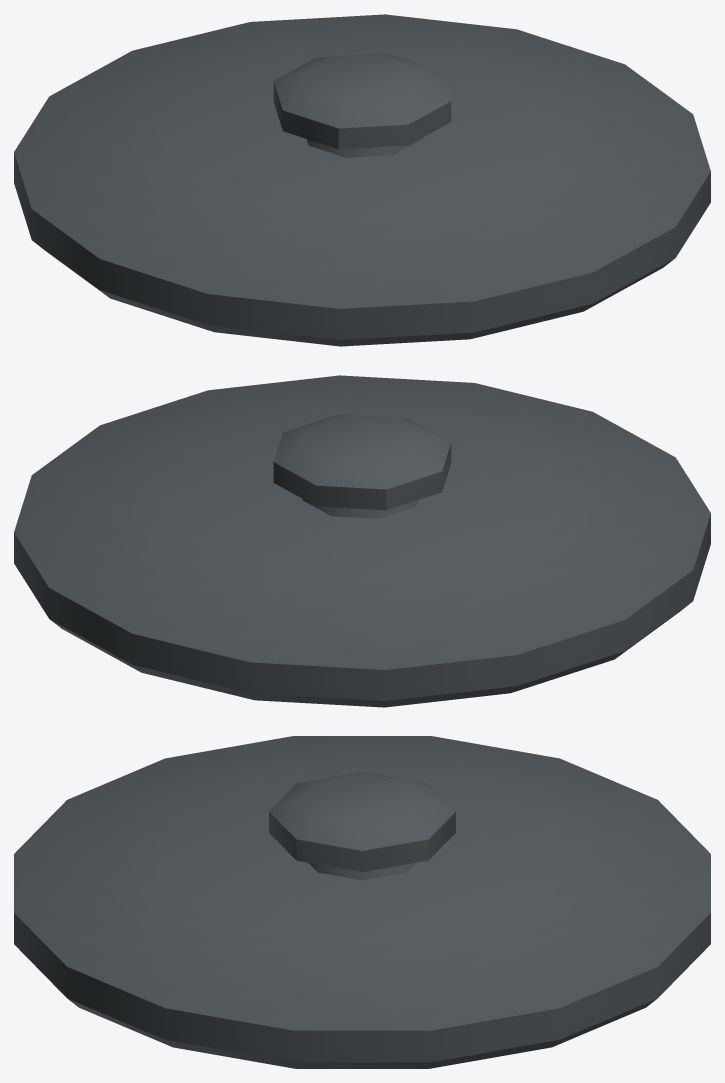
The model's file is lid_B.obj.
The picture shows the model from 3 angles, top to bottom: view 1: azimuth 30°, elevation 25°; view 2: azimuth 150°, elevation 25°; view 3: azimuth 270°, elevation 25°; orthographic projection.
Parts seen in each view (by area): view 1: lid_B_Cylinder.202; view 2: lid_B_Cylinder.202; view 3: lid_B_Cylinder.202.
Part boxes in pixels (x1,y1,x2,y2): lid_B_Cylinder.202: (14, 14, 710, 346); lid_B_Cylinder.202: (14, 375, 710, 707); lid_B_Cylinder.202: (14, 736, 710, 1068).
Bounding box in the file's own units: 1 × 0.2004 × 1.
1 material, 1 textured.
